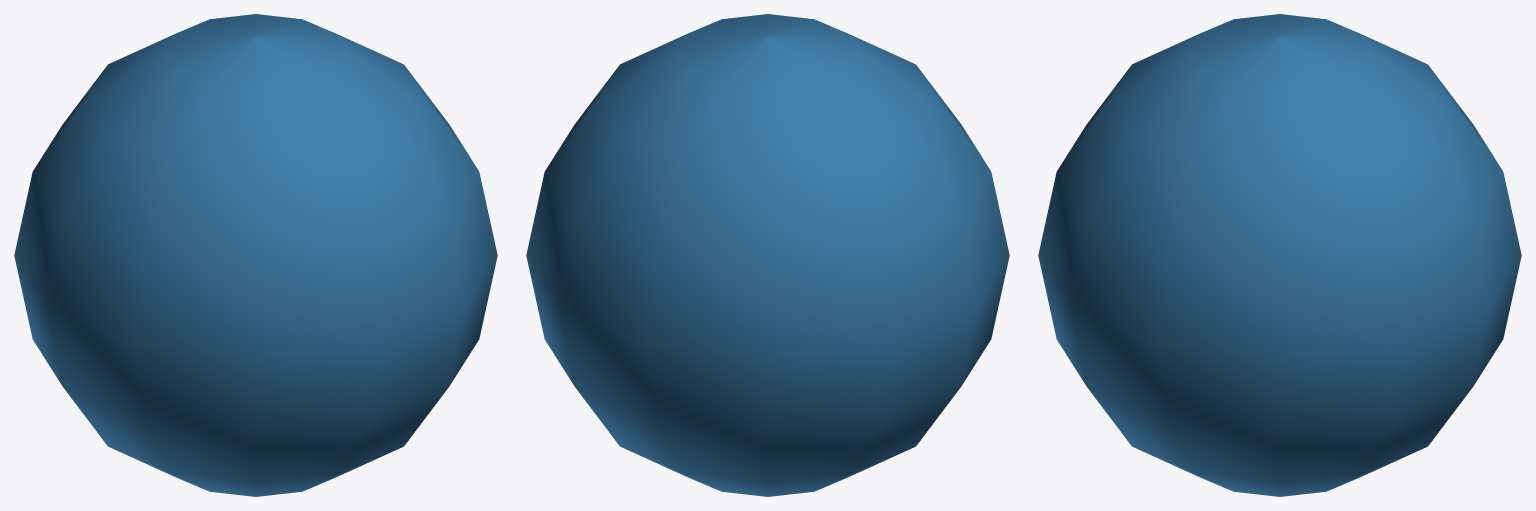
Rendered from ward.glb.
3 renders of one model, left to right at view 1: azimuth 30°, elevation 25°; view 2: azimuth 150°, elevation 25°; view 3: azimuth 270°, elevation 25°, orthographic.
Parts seen in each view (by area): view 1: effect; view 2: effect; view 3: effect.
Part boxes in pixels (x1,y1,x2,y2): effect: [14, 14, 497, 496]; effect: [526, 14, 1009, 496]; effect: [1038, 14, 1521, 496].
Size of the model in its own units: 2 by 2 by 2.
